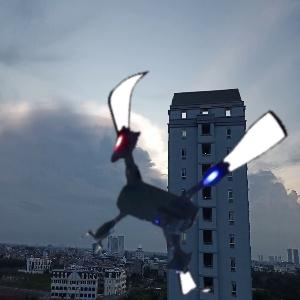drone: (56, 56, 293, 293)
